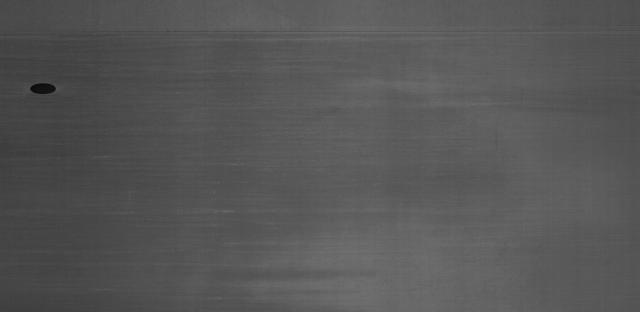punching_hole: (27, 81, 59, 97)
welding_line: (6, 14, 636, 47)
